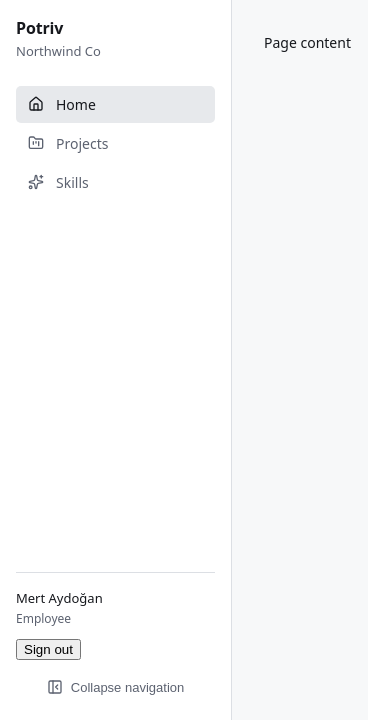
Test: collapsing the desktop rail › offers a real button that says what it will do
The width and height of the screenshot is (368, 720).
Click the button "Collapse navigation".
click(116, 687)  # box [16, 670, 215, 704]
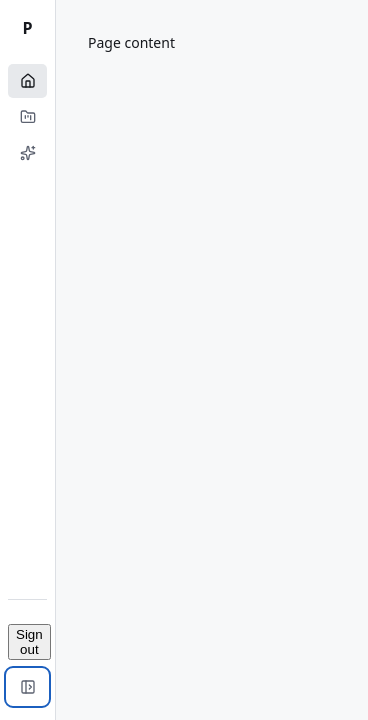
Result: the button named "Expand navigation" is collapsed at [8, 670, 47, 704]
